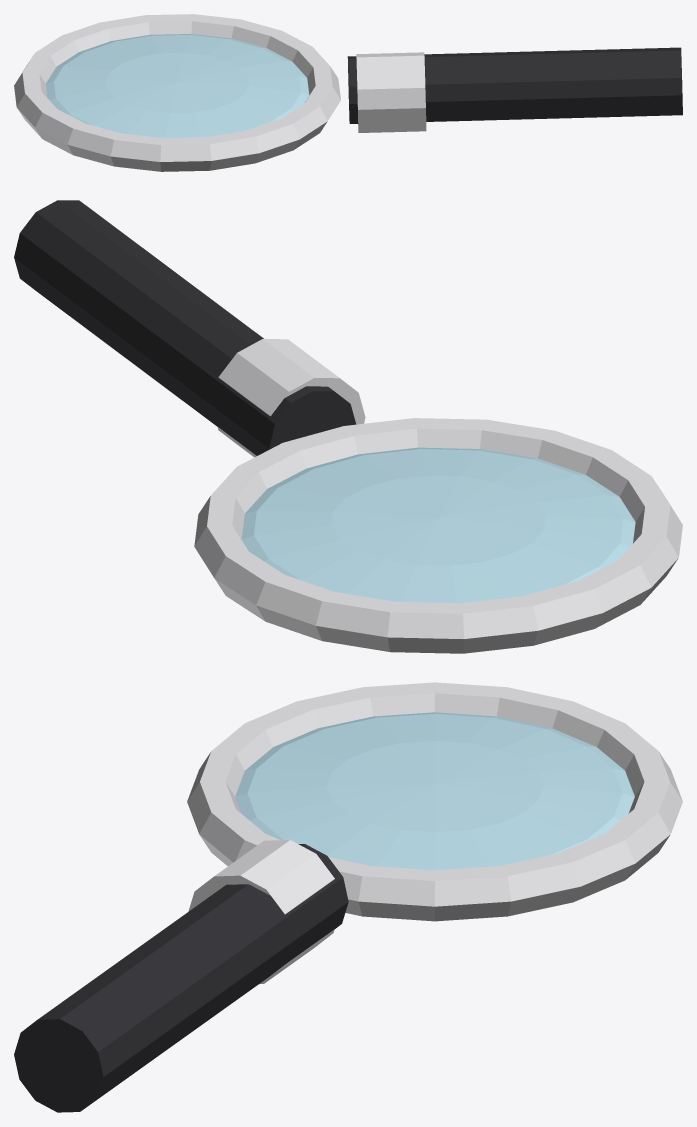
File: magnifier.glb
3 views of the same model, one above another, from view 1: azimuth 30°, elevation 25°; view 2: azimuth 150°, elevation 25°; view 3: azimuth 270°, elevation 25° (orthographic). The views are drawn at different scales.
Parts seen in each view (by area): view 1: magnifier; view 2: magnifier; view 3: magnifier.
Part boxes in pixels (x1=…): magnifier: x1=14, y1=14, x2=682, y2=171; magnifier: x1=14, y1=200, x2=682, y2=653; magnifier: x1=14, y1=682, x2=682, y2=1112.
Bounding box in the file's own units: 0.1639 × 0.0217 × 0.1174.
